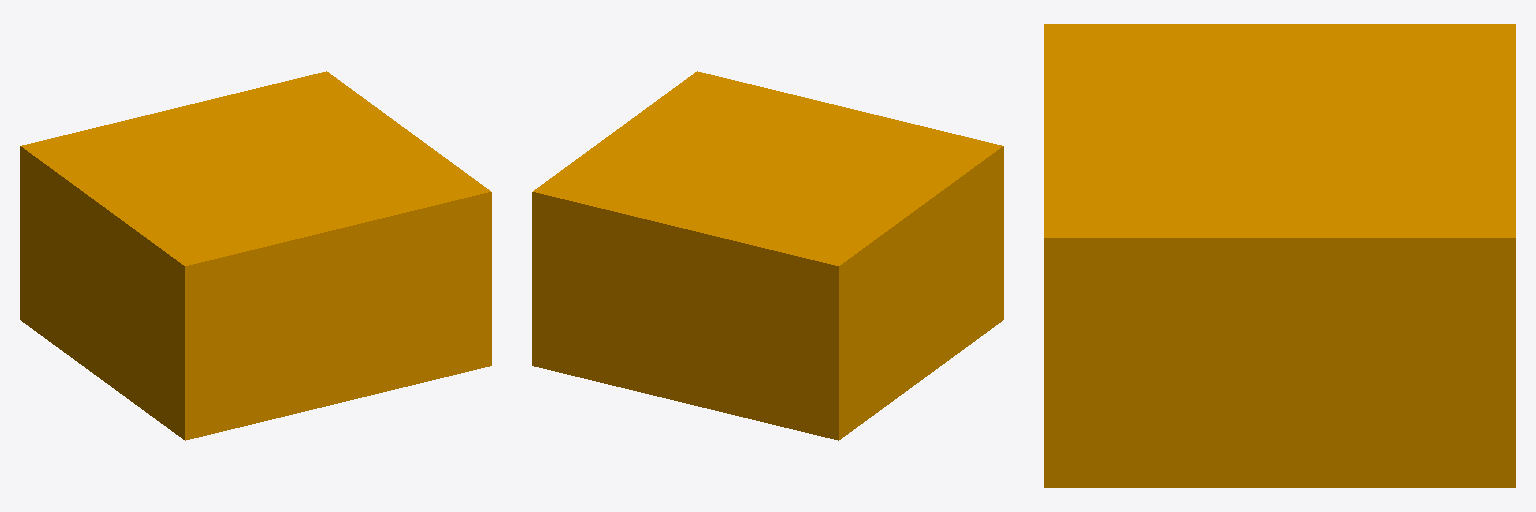
The robot description file, URDF, robot "object":
<?xml version="1.0"?>
<!-- Auto-generated by tools/gen_primitive_objects.py. kind=box dims=(0.085859, 0.079854, 0.046673) -->
<robot name="object">
  <link name="object">
    <visual>
      <origin xyz="0 0 0"/>
      <geometry>
        <box size="0.085859 0.079854 0.046673"/>
      </geometry>
    </visual>
    <collision>
      <origin xyz="0 0 0"/>
      <geometry>
        <box size="0.085859 0.079854 0.046673"/>
      </geometry>
    </collision>
    <inertial>
      <mass value="0.064000"/>
      <inertia ixx="0.00004563" ixy="0.0" ixz="0.0" iyy="0.00005093" iyz="0.0" izz="0.00007332"/>
    </inertial>
  </link>
</robot>

--- Render facts (derived) ---
3 views of the same robot in one strip: view 1: azimuth 30°, elevation 25°; view 2: azimuth 150°, elevation 25°; view 3: azimuth 270°, elevation 25° (orthographic).
Model object with 1 links and 0 joints (none), rooted at object, posed all joints at 0.
Visible links, largest first — view 1: object; view 2: object; view 3: object.
Boxes of the visible links, x1=… form: object: x1=20, y1=71, x2=491, y2=440; object: x1=532, y1=71, x2=1003, y2=440; object: x1=1044, y1=24, x2=1515, y2=487.
Size in the robot's own frame: 0.0859 by 0.0799 by 0.0467 metres.
Geometry: primitives only (box / cylinder / sphere), no mesh files.
